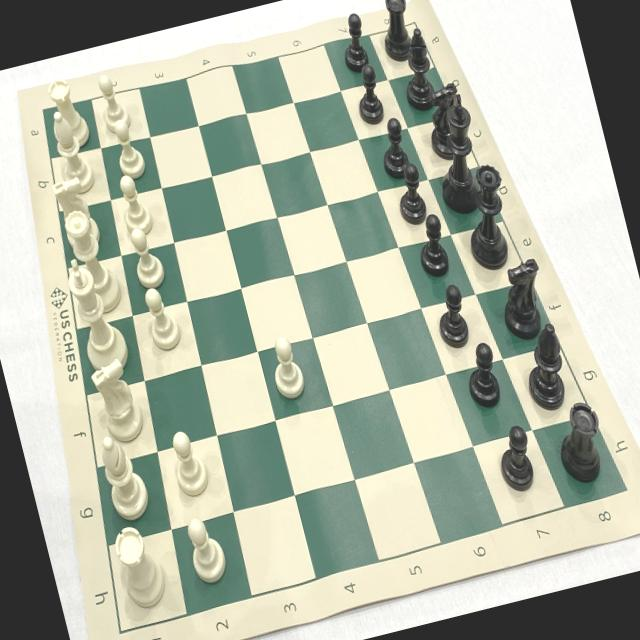black-bishop: (514, 318, 576, 414), (390, 21, 442, 116)
black-king: (419, 91, 493, 219)
black-knight: (491, 252, 554, 340), (417, 79, 475, 163)
black-pawn: (489, 422, 542, 498), (456, 338, 506, 413), (381, 160, 432, 232), (427, 281, 475, 353), (408, 211, 454, 281), (371, 114, 416, 184), (344, 63, 388, 131), (331, 7, 372, 76)
black-queen: (449, 158, 522, 274)
black-rook: (546, 396, 615, 490), (370, 0, 421, 66)
white-bishop: (90, 427, 154, 526), (40, 101, 100, 198)
white-king: (56, 249, 134, 381)
white-knight: (80, 352, 150, 448), (48, 171, 104, 256)
white-pawn: (159, 422, 214, 502), (178, 510, 232, 587), (261, 327, 312, 406), (136, 280, 188, 357), (121, 222, 170, 294), (109, 170, 157, 242), (105, 114, 151, 186), (89, 68, 134, 137)
white-queen: (58, 203, 128, 322)
white-rook: (106, 519, 174, 617), (41, 74, 94, 154)
